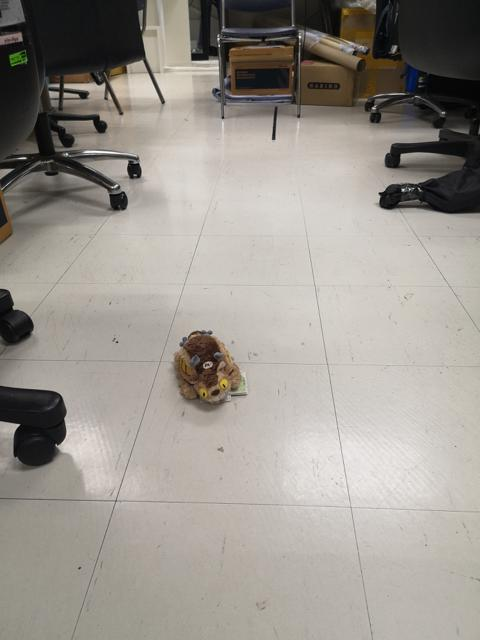nekobus: (170, 323, 249, 414)
